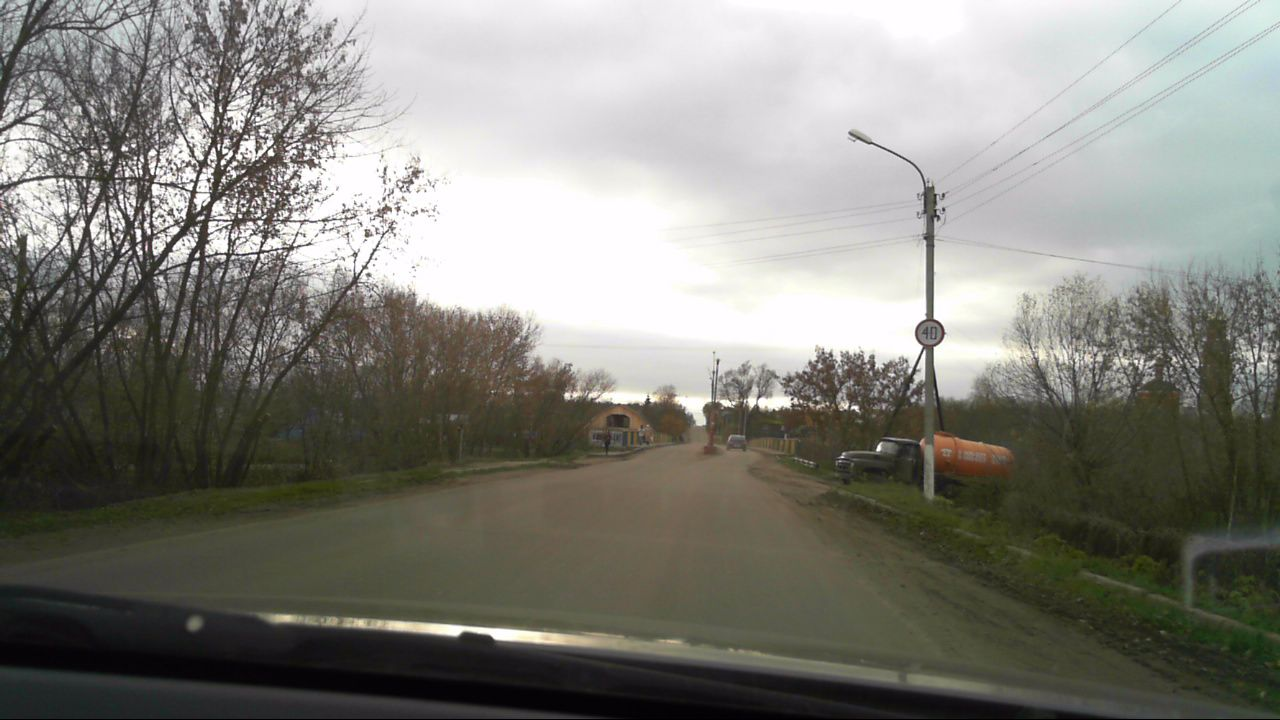speed_warning_40: (915, 318, 945, 349)
